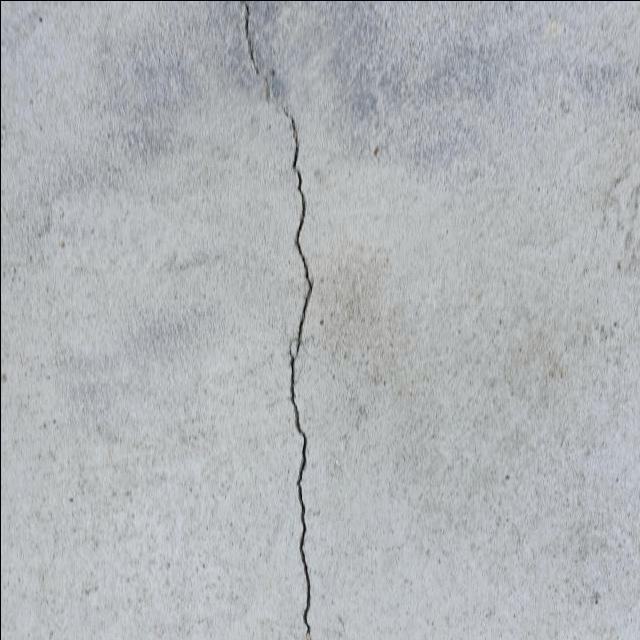SurfaceCrack: (220, 0, 360, 639)
